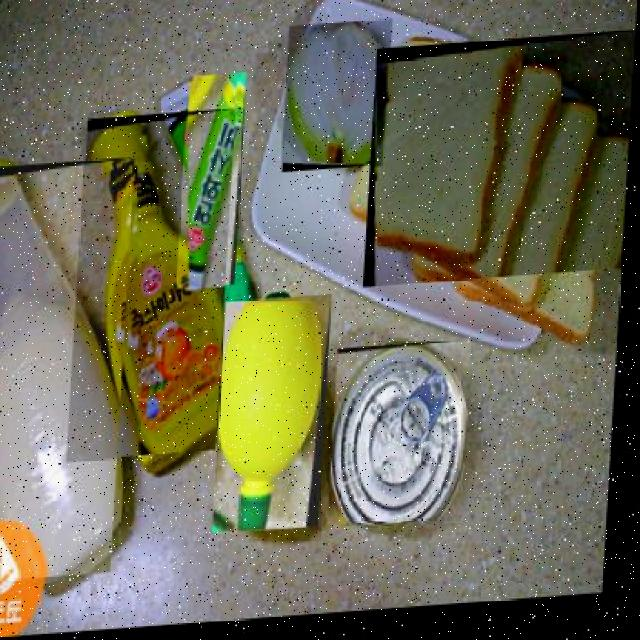Bread: (366, 39, 636, 295)
Mayonnaise: (0, 159, 137, 584)
Onion: (282, 24, 392, 178)
